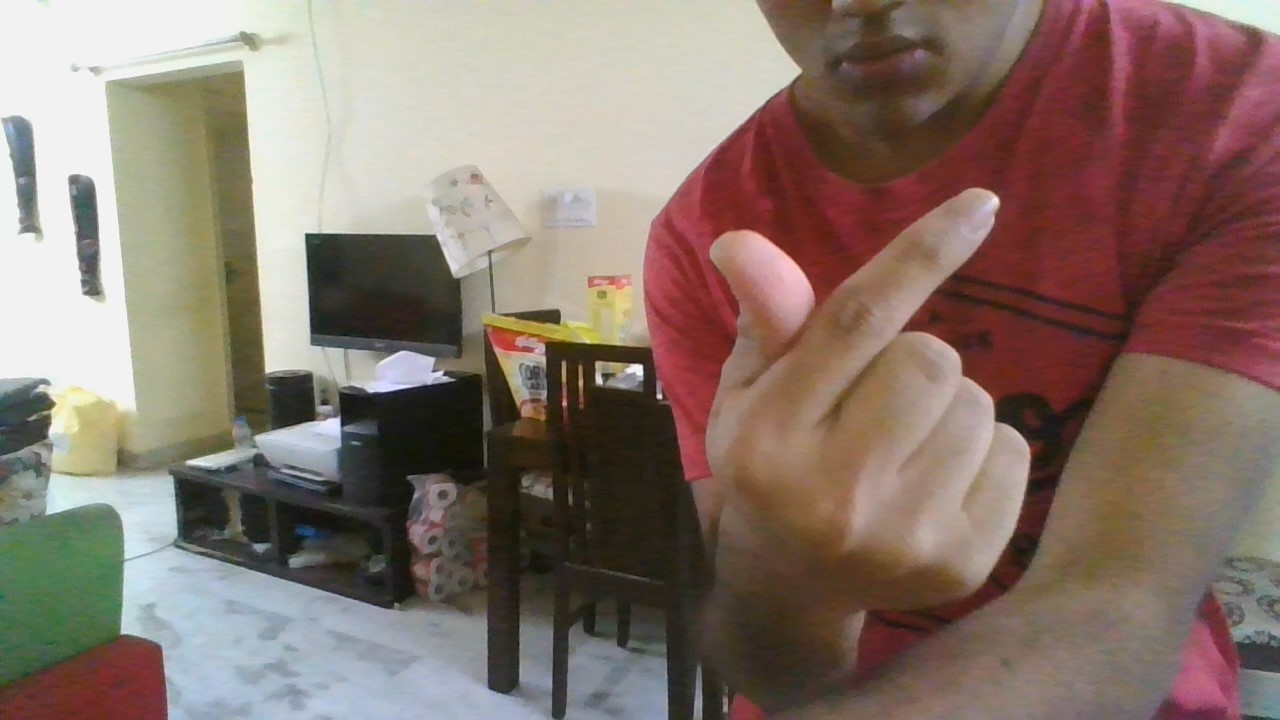eof: (701, 184, 1035, 618)
